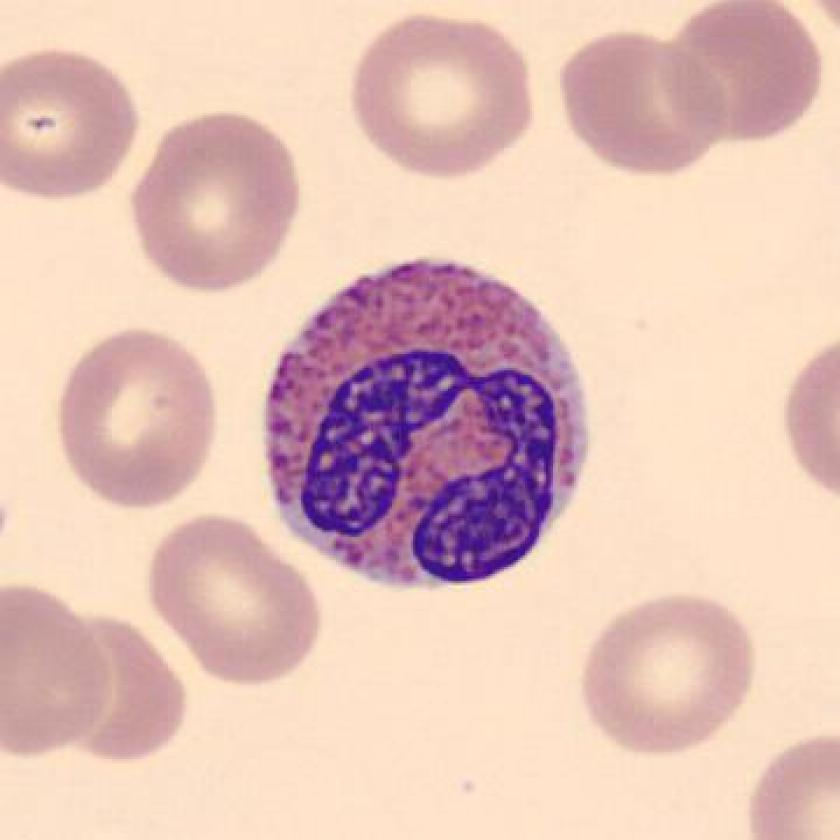eosinophil: (255, 246, 603, 605)
